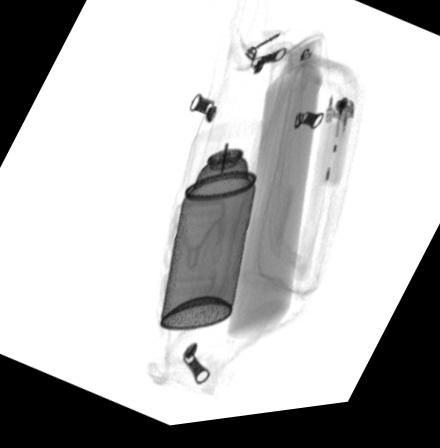Lighter: (309, 102, 357, 197)
Sprayer: (158, 125, 265, 335)
